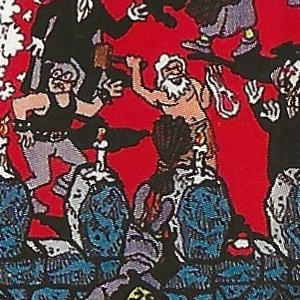Wizard Whitebeard: (120, 96, 193, 204)
